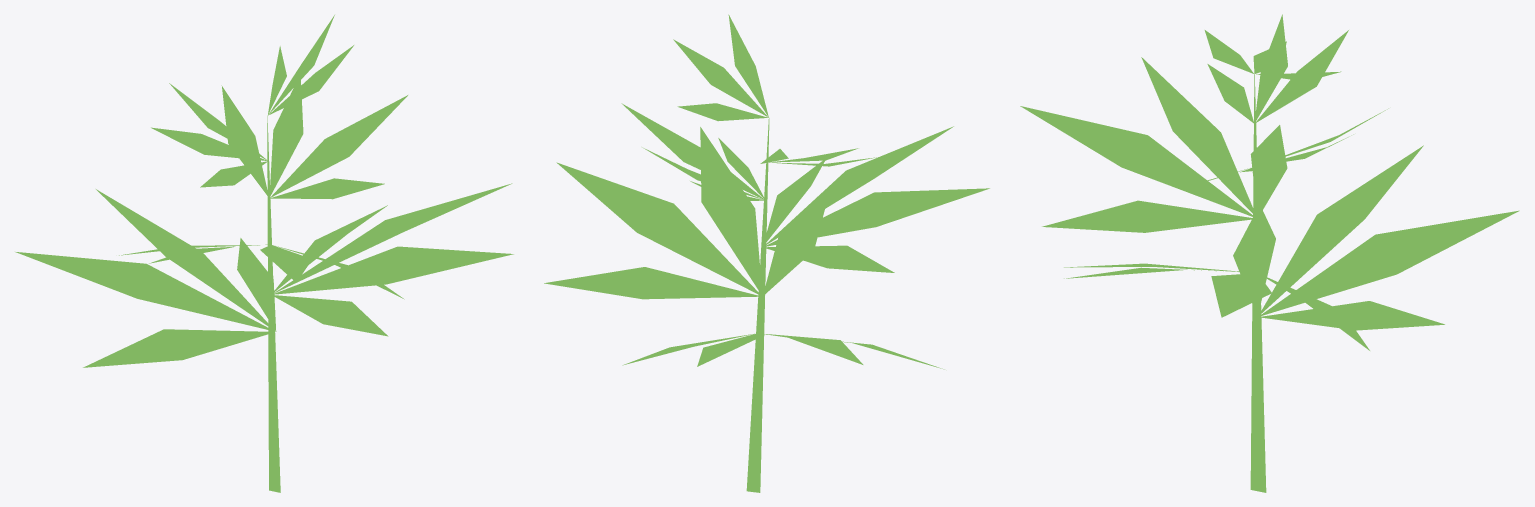
The model's file is Plant_i_OneS_05.fbx.
3 views of the same model, side by side, from view 1: azimuth 30°, elevation 25°; view 2: azimuth 150°, elevation 25°; view 3: azimuth 270°, elevation 25° (orthographic). The views are drawn at different scales.
Visible parts, largest first — view 1: Plant_i_OneS_05; view 2: Plant_i_OneS_05; view 3: Plant_i_OneS_05.
Part boxes in pixels (<box>): Plant_i_OneS_05: <box>15,15,513,492</box>; Plant_i_OneS_05: <box>544,14,989,492</box>; Plant_i_OneS_05: <box>1020,14,1519,492</box>.
Bounding box in the file's own units: 0.3989 × 0.4157 × 0.3867.
